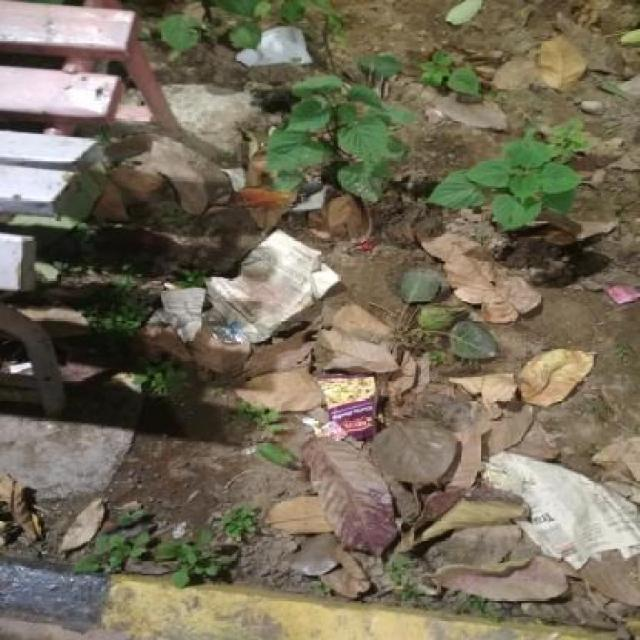garbage: (189, 237, 609, 608), (0, 456, 213, 575), (116, 146, 326, 266), (428, 7, 635, 96), (417, 91, 548, 144), (208, 29, 344, 70)
